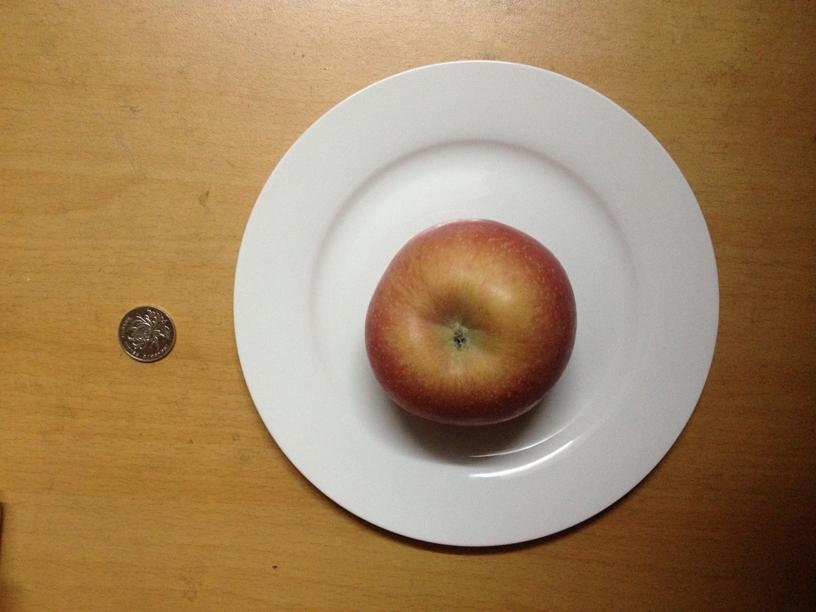apple: (362, 217, 576, 428)
coin: (119, 302, 175, 363)
